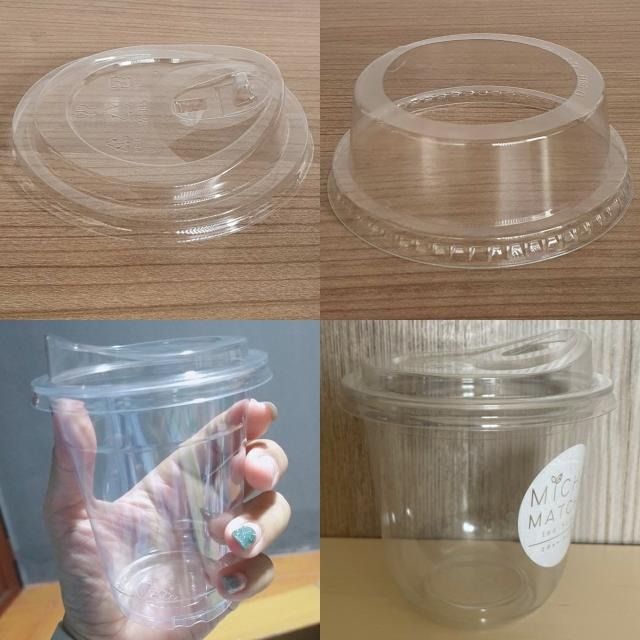Single-Use-Plastic: (340, 329, 616, 628), (328, 34, 632, 268), (32, 335, 271, 629), (11, 45, 312, 242)
